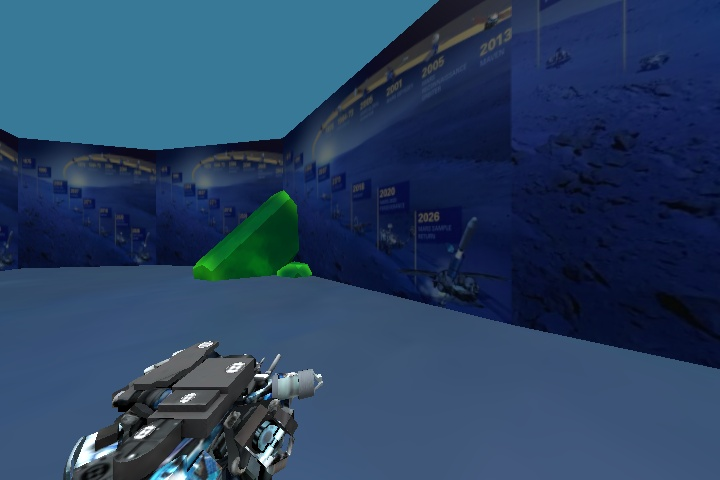green_crystal: (173, 179, 325, 288)
